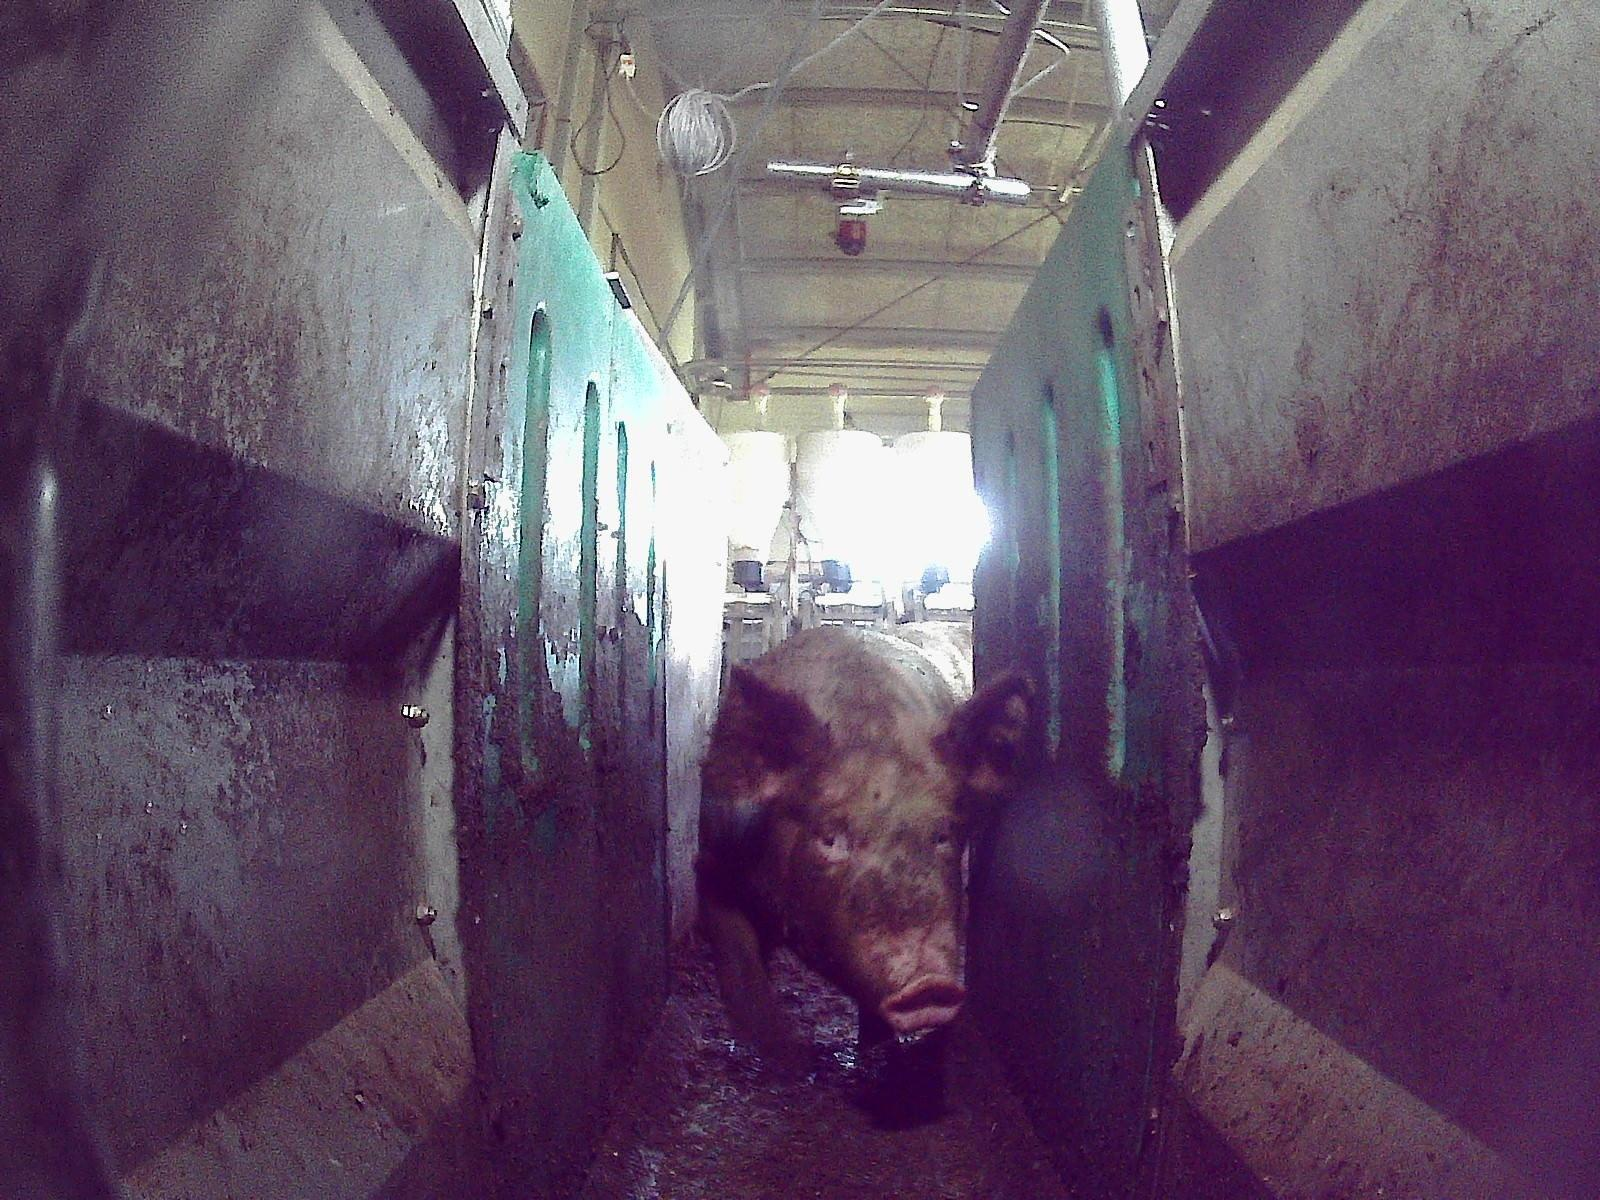Face: (765, 737, 967, 1032)
